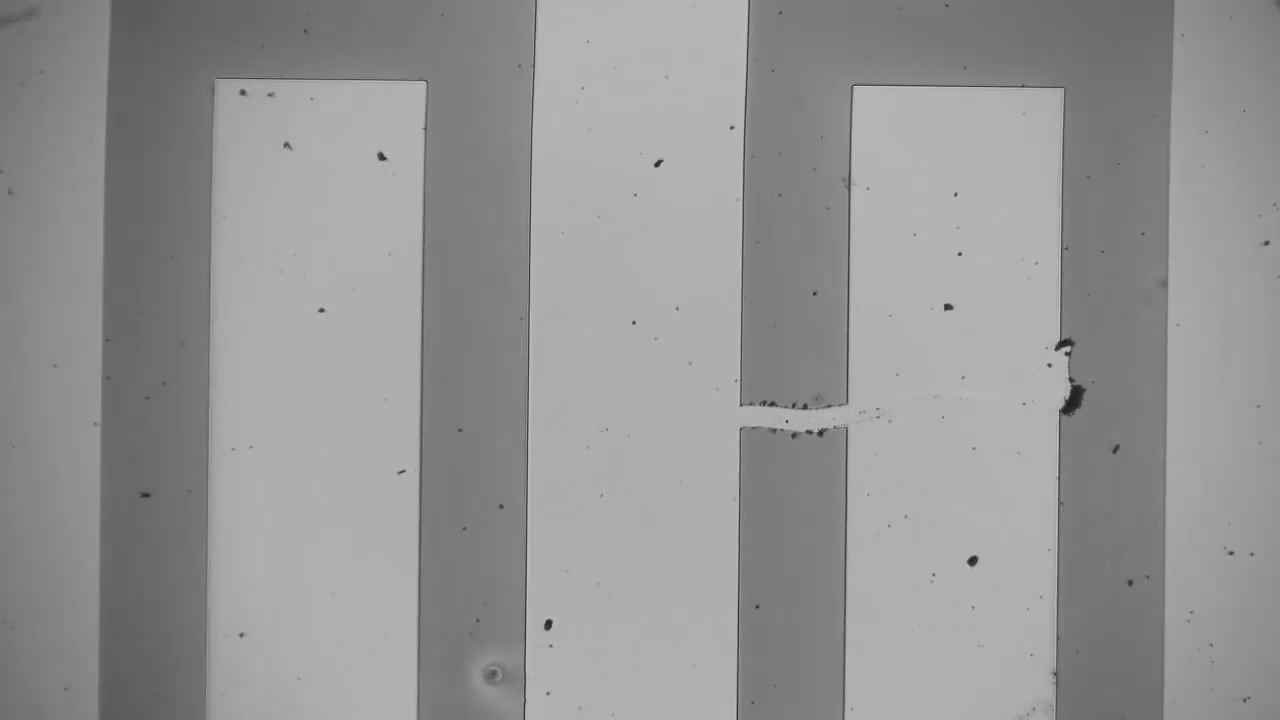Short_circuit: (716, 373, 882, 460)
